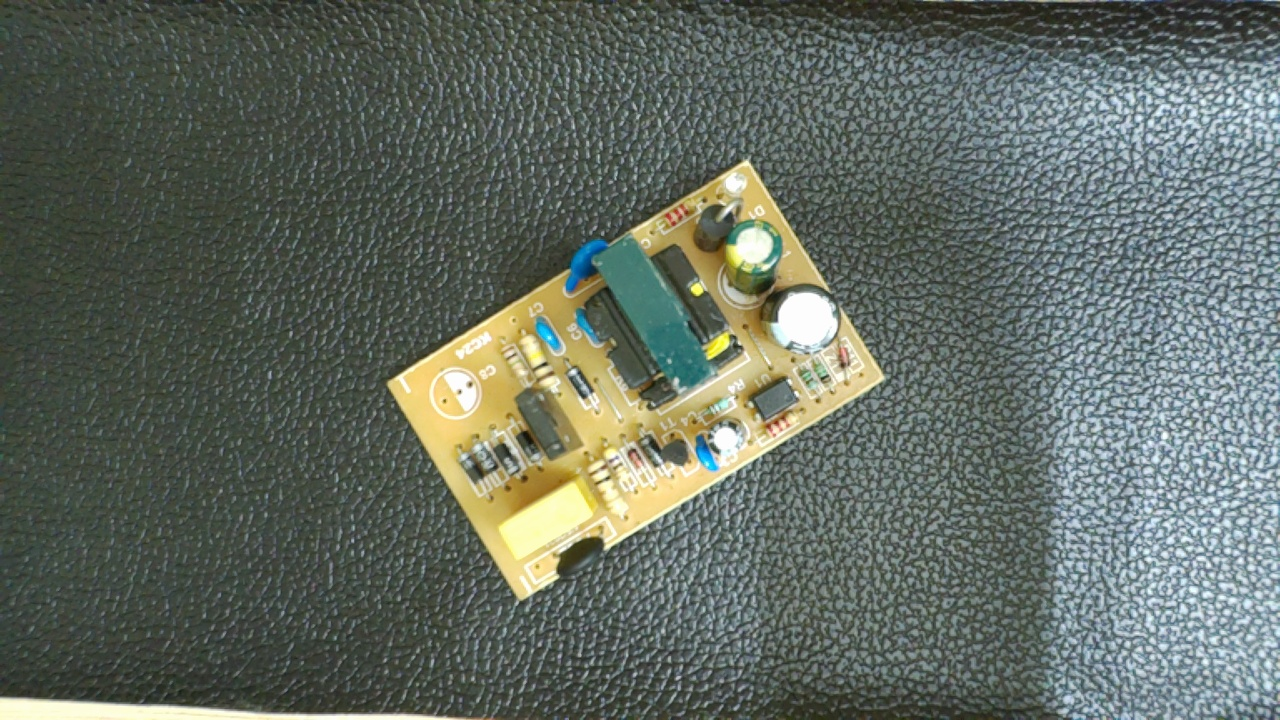fuse: (534, 531, 626, 579)
mov: (554, 236, 615, 297)
optocoupler: (740, 374, 806, 423)
